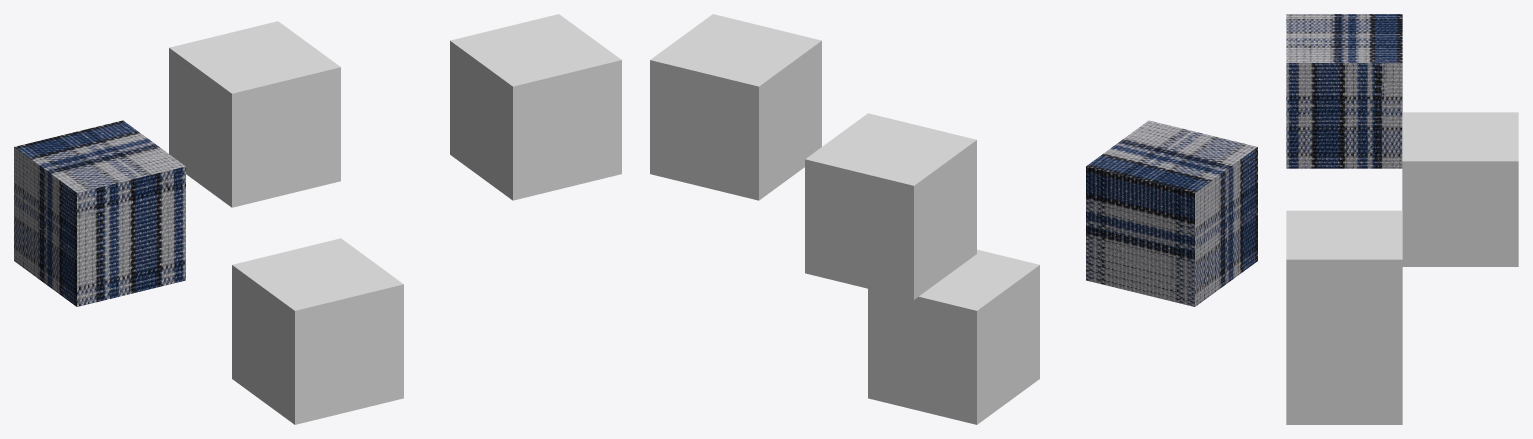
The model's file is aframeBlenderMaterials.glb.
3 renders of one model, left to right at view 1: azimuth 30°, elevation 25°; view 2: azimuth 150°, elevation 25°; view 3: azimuth 270°, elevation 25°, orthographic. The views are drawn at different scales.
Visible parts, largest first — view 1: boxNoUv, boxUvMaterial, boxUvTextured, boxUv; view 2: boxUv, boxUvTextured, boxUvMaterial, boxNoUv; view 3: boxUvMaterial, boxUv, boxUvTextured, boxNoUv.
Boxes of the visible parts, <box> form: boxNoUv: <box>232,238,403,424</box>; boxUvMaterial: <box>450,14,621,200</box>; boxUvTextured: <box>14,120,185,306</box>; boxUv: <box>169,21,340,207</box>; boxUv: <box>805,113,976,299</box>; boxUvTextured: <box>1086,120,1257,306</box>; boxUvMaterial: <box>650,14,821,200</box>; boxNoUv: <box>868,249,1039,424</box>; boxUvMaterial: <box>1286,210,1402,365</box>; boxUv: <box>1402,112,1518,266</box>; boxUvTextured: <box>1286,14,1402,168</box>; boxNoUv: <box>1286,365,1402,424</box>.
Size of what is drawn, in the model's own units: 5 by 2.5 by 2.
Materials: 2 (1 with a texture image).
